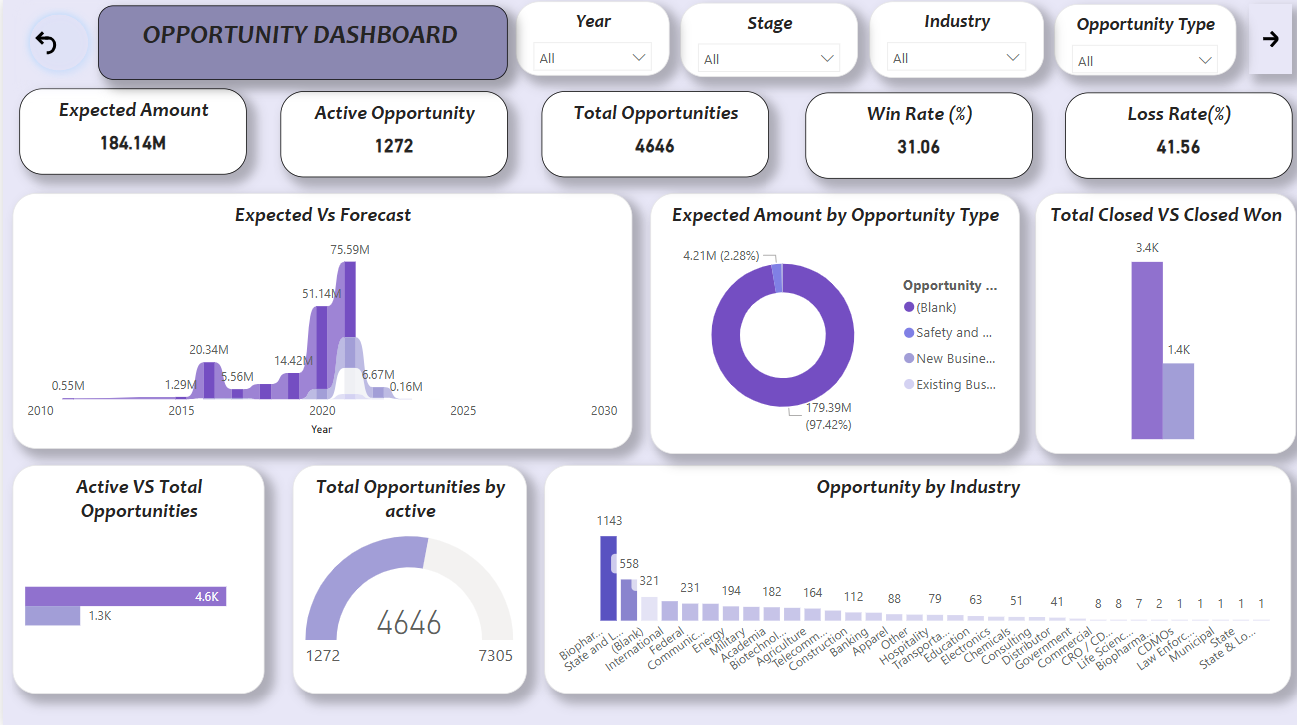

The dashboard page shown, as its layout file describes it:
{"tool":"powerbi","page":{"name":"Opportunity Dashboard","canvas":[1280,720],"ordinal":1},"visuals":[{"type":"ribbonChart","title":"Expected Vs Forecast ","fields":{"Category":["oppertuninty table.Close Date.Variation.Date Hierarchy.Year"],"Y":["Sum(oppertuninty table.Expected Amount)"],"Series":["oppertuninty table.Forecast Category"]},"box":[10.1,191,613.1,253],"z":0},{"type":"lineClusteredColumnComboChart","title":"Opportunity by Industry","fields":{"Category":["oppertuninty table.Industry"],"Y":["CountNonNull(oppertuninty table.Opportunity ID)"]},"box":[535.4,460.8,739.2,226.4],"z":1000},{"type":"gauge","title":" Total Opportunities by active ","fields":{"Y":["account.Cumulative Total Opportunities"],"MinValue":["account.active opportunity"],"MaxValue":["CountNonNull(oppertuninty table.Close Date.Variation.Date Hierarchy.Year)"]},"box":[286.4,460.8,231.7,226.4],"z":2000},{"type":"clusteredBarChart","title":" Active VS Total Opportunities","fields":{"Y":["account.Total Opportunities","account.active opportunity"]},"box":[10.1,460.7,249.6,226.2],"z":3000},{"type":"clusteredColumnChart","title":"Total Closed VS Closed Won","fields":{"Y":["account.Total Closed","account.Closed Won"]},"box":[1021.9,191,258,258],"z":4000},{"type":"donutChart","title":" Expected Amount by Opportunity Type","fields":{"Category":["oppertuninty table.Opportunity Type"],"Y":["Sum(oppertuninty table.Expected Amount)"]},"box":[639.9,191,365.2,258],"z":5000},{"type":"slicer","title":"Opportunity Type","fields":{"Values":["oppertuninty table.Opportunity Type"]},"box":[1040.2,4,179.8,70.6],"z":6000},{"type":"slicer","title":"Industry","fields":{"Values":["oppertuninty table.Industry"]},"box":[857.7,1.7,172.5,75.4],"z":7000},{"type":"slicer","title":"Stage","fields":{"Values":["oppertuninty table.Stage"]},"box":[670.1,3.4,175.9,73.7],"z":8000},{"type":"slicer","title":"Year","fields":{"Values":["oppertuninty table.Close Date.Variation.Date Hierarchy.Year"]},"box":[507.6,1.7,152.4,73.7],"z":9000},{"type":"card","title":"Active Opportunity","fields":{"Values":["account.active opportunity"]},"box":[274.7,90.5,225,85.4],"z":10000},{"type":"card","title":"Total Opportunities","fields":{"Values":["account.Total Opportunities"]},"box":[532.7,90.5,225,85.4],"z":11000},{"type":"card","title":"Loss Rate(%)","fields":{"Values":["account.loss rate(%)"]},"box":[1050.3,92.1,225,85.4],"z":12000},{"type":"card","title":"Win Rate (%)","fields":{"Values":["account.Win Rate (%)"]},"box":[794,92.1,225,85.4],"z":13000},{"type":"card","title":" Expected Amount","fields":{"Values":["Sum(oppertuninty table.Expected Amount)"]},"box":[16.8,87.1,225,85],"z":14000},{"type":"actionButton","box":[17.3,5.3,75.9,73.3],"z":15000},{"type":"actionButton","box":[1232,4,42.6,69.3],"z":16000},{"type":"textbox","box":[93.8,5,405.4,73.7],"z":19001}]}

Visuals, with their boxes in screenshot pixels (x1, y1, x2, y2), scaled from the page's 1280x720 canvas onto the 1297x725 screenshot:
"Expected Vs Forecast " ribbonChart: [x1=10, y1=192, x2=631, y2=447]
"Opportunity by Industry" lineClusteredColumnComboChart: [x1=543, y1=464, x2=1292, y2=692]
" Total Opportunities by active " gauge: [x1=290, y1=464, x2=525, y2=692]
" Active VS Total Opportunities" clusteredBarChart: [x1=10, y1=464, x2=263, y2=692]
"Total Closed VS Closed Won" clusteredColumnChart: [x1=1035, y1=192, x2=1296, y2=452]
" Expected Amount by Opportunity Type" donutChart: [x1=648, y1=192, x2=1018, y2=452]
"Opportunity Type" slicer: [x1=1054, y1=4, x2=1236, y2=75]
"Industry" slicer: [x1=869, y1=2, x2=1044, y2=78]
"Stage" slicer: [x1=679, y1=3, x2=857, y2=78]
"Year" slicer: [x1=514, y1=2, x2=669, y2=76]
"Active Opportunity" card: [x1=278, y1=91, x2=506, y2=177]
"Total Opportunities" card: [x1=540, y1=91, x2=768, y2=177]
"Loss Rate(%)" card: [x1=1064, y1=93, x2=1292, y2=179]
"Win Rate (%)" card: [x1=805, y1=93, x2=1033, y2=179]
" Expected Amount" card: [x1=17, y1=88, x2=245, y2=173]
actionButton: [x1=18, y1=5, x2=94, y2=79]
actionButton: [x1=1248, y1=4, x2=1292, y2=74]
textbox: [x1=95, y1=5, x2=506, y2=79]
